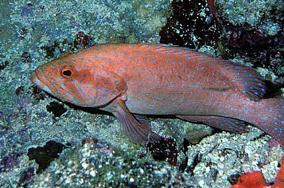Serranidae -Groupers-: (30, 38, 284, 149)
